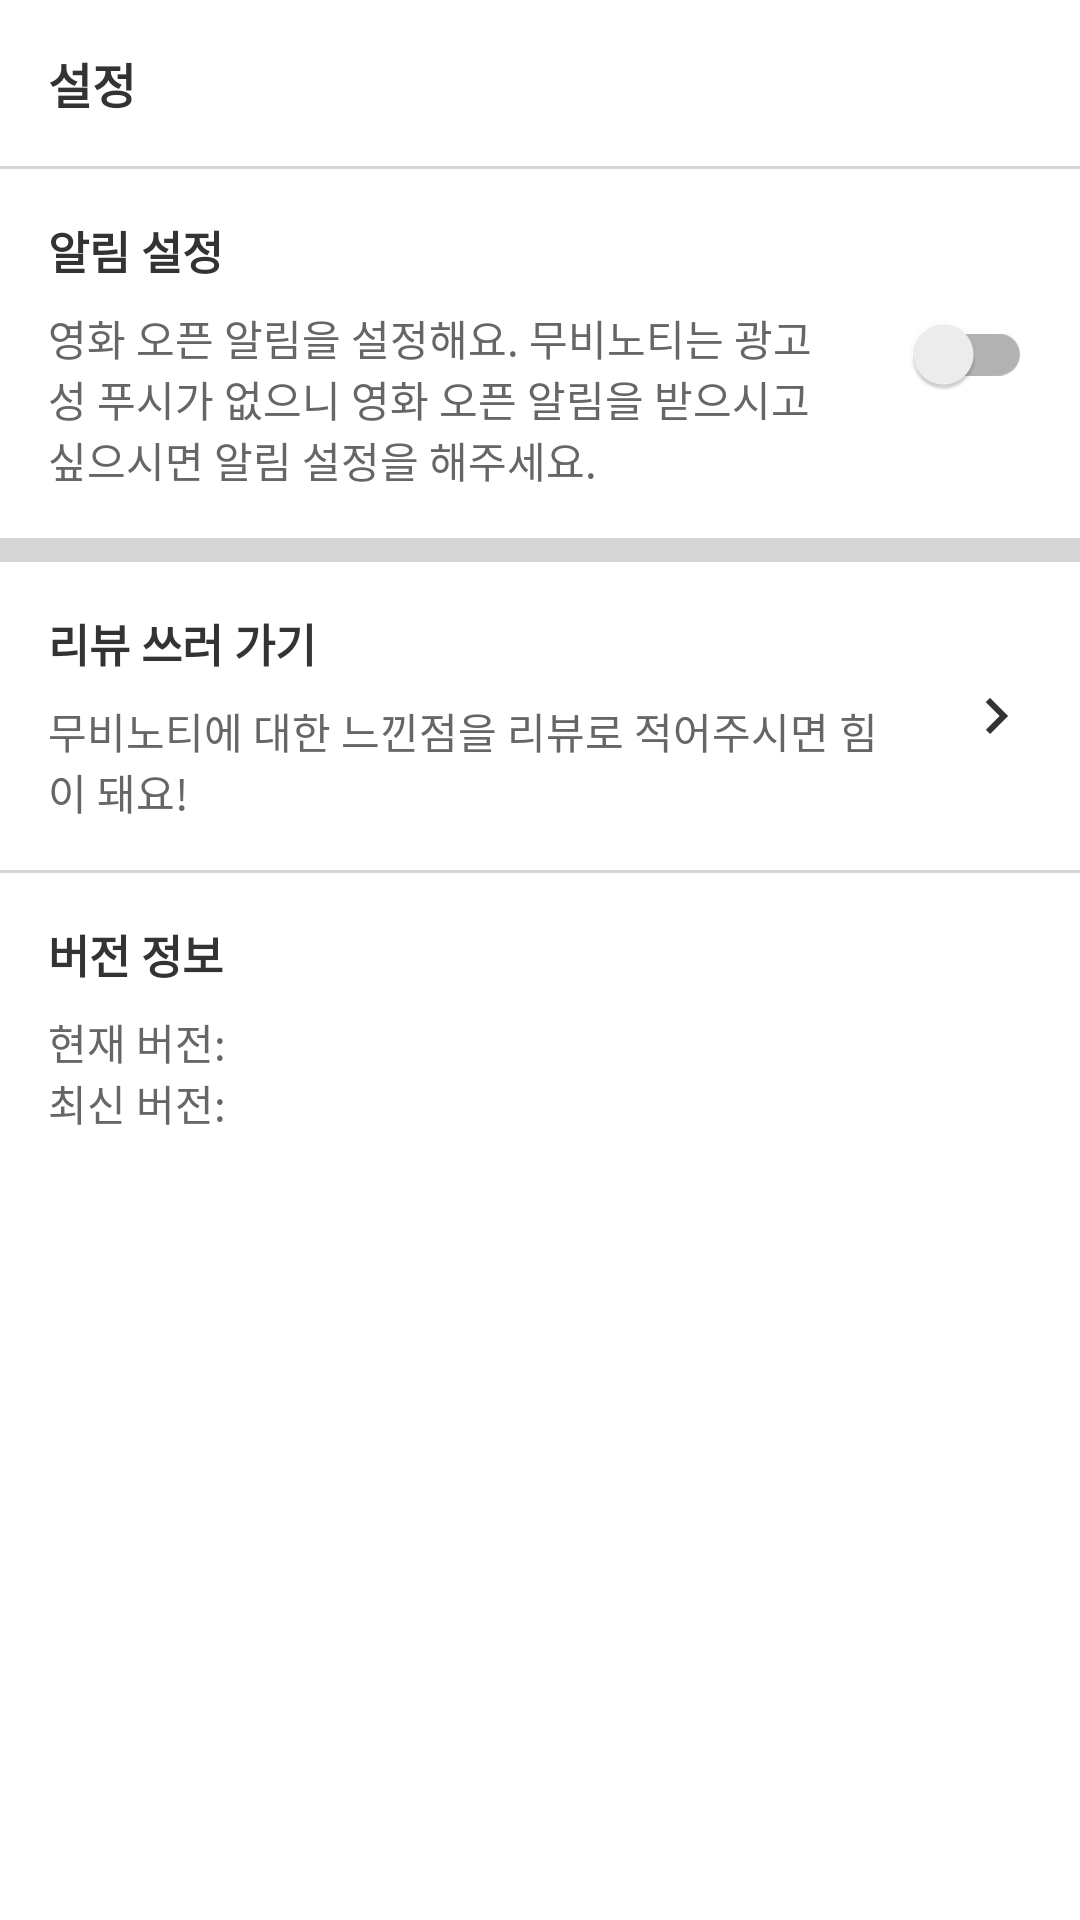

Screen size 1080 × 1920. Icon name, then its center in pixels as point (x, y):
setting arrow: point (997, 716)
